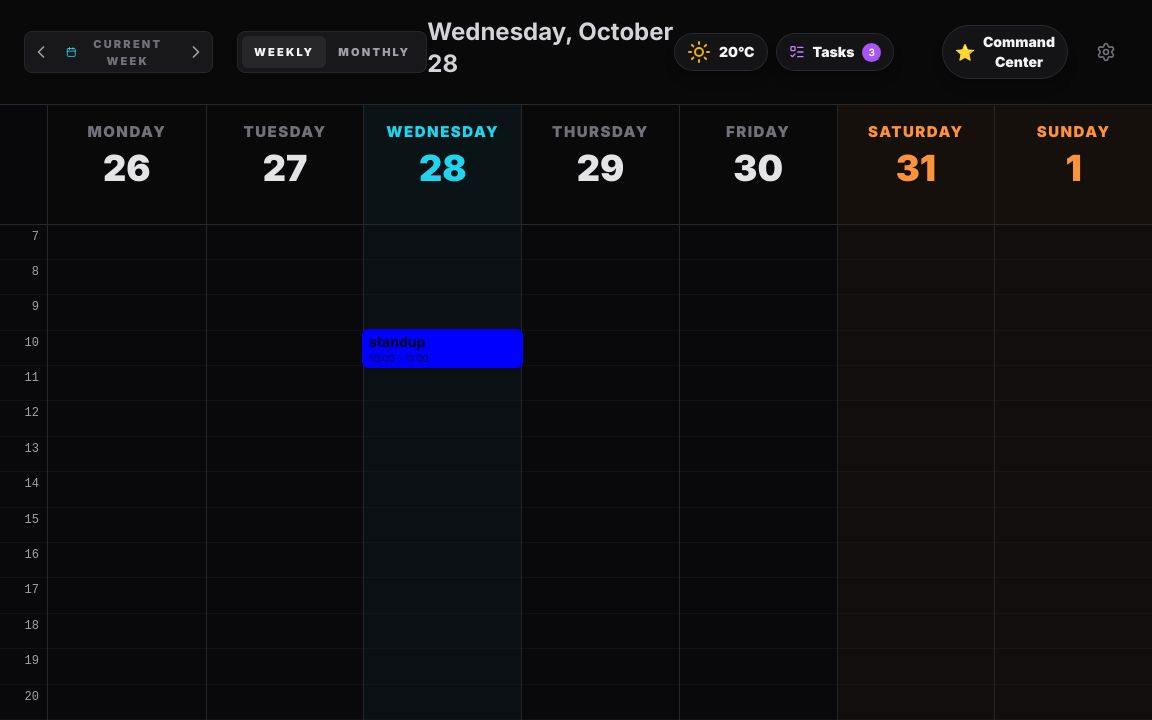
it: Back from Mission Control › in StrictMode the return still shows the kept week at once and reads the month once
Click the button with test id "switch-to-mc-btn": {"x": 1005, "y": 52} [942,25,1068,79]
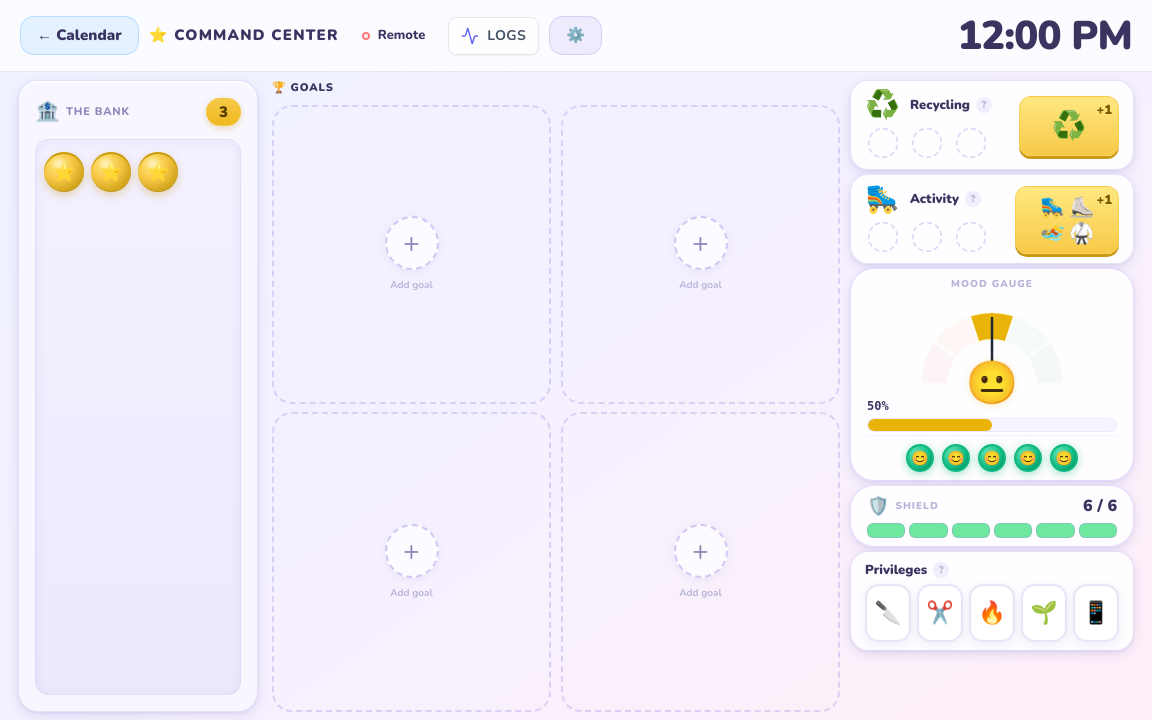
Click the button with test id "mc-back-to-calendar-btn": {"x": 79, "y": 36} [20,16,139,55]
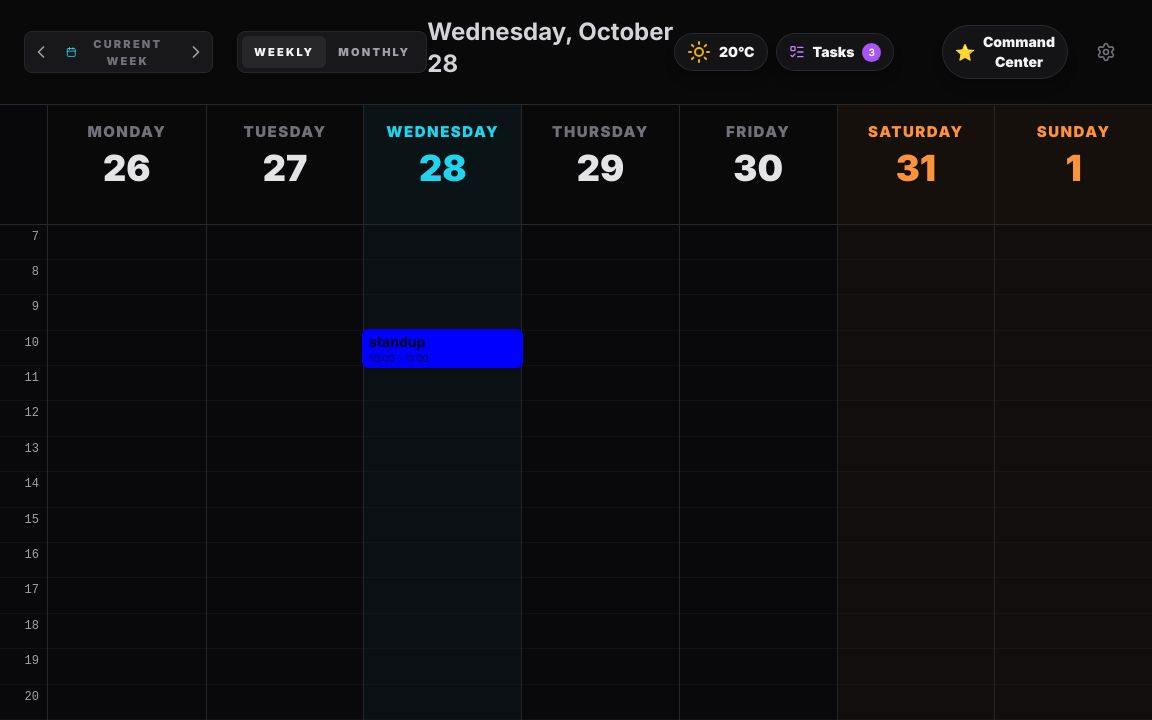
Now the element with test id "event-card-standup" is shown, box [362,329,524,368]
